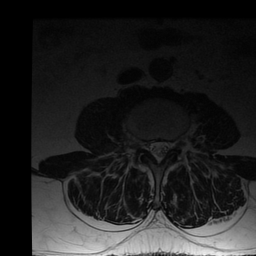CCS_normal: (155, 133, 162, 169)
LFS_normal: (170, 133, 177, 154)
LLS_normal: (162, 135, 170, 157)
RFS_normal: (139, 134, 147, 157)
RLS_normal: (146, 135, 154, 158)
